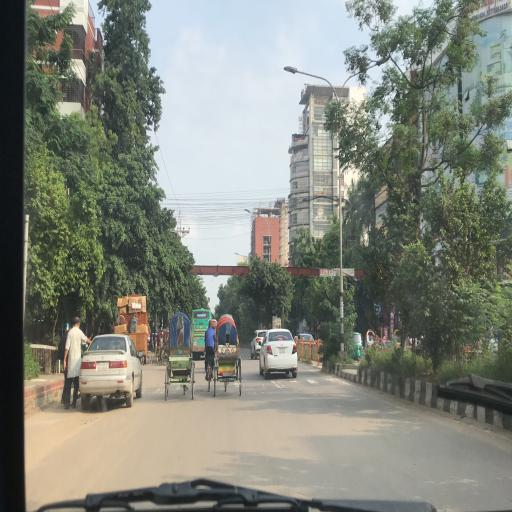bicycle: (206, 322, 214, 395)
bus: (193, 309, 207, 361)
car: (82, 335, 144, 409), (264, 332, 299, 380)
rickshaw: (215, 314, 244, 399), (167, 313, 192, 402), (366, 329, 381, 351), (164, 330, 171, 367), (155, 333, 162, 365)
suv: (251, 330, 263, 361)
three wheelers (CNG): (353, 331, 364, 364)
